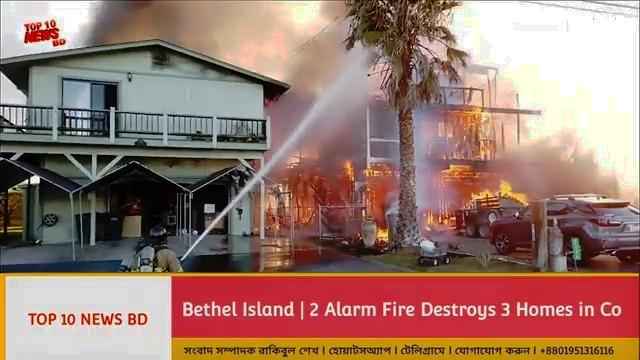fire: (456, 175, 535, 205), (448, 110, 491, 156)
